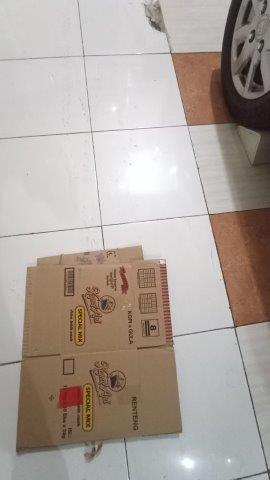kardus: (18, 247, 181, 445)
